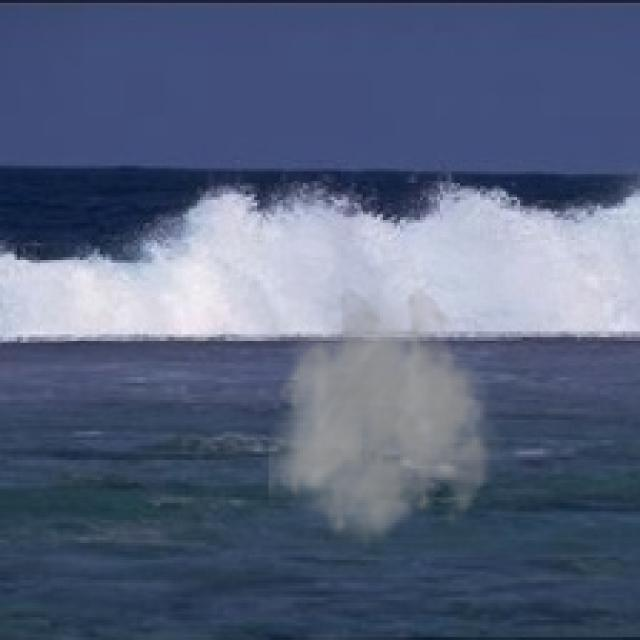smoke: (268, 283, 508, 551)
